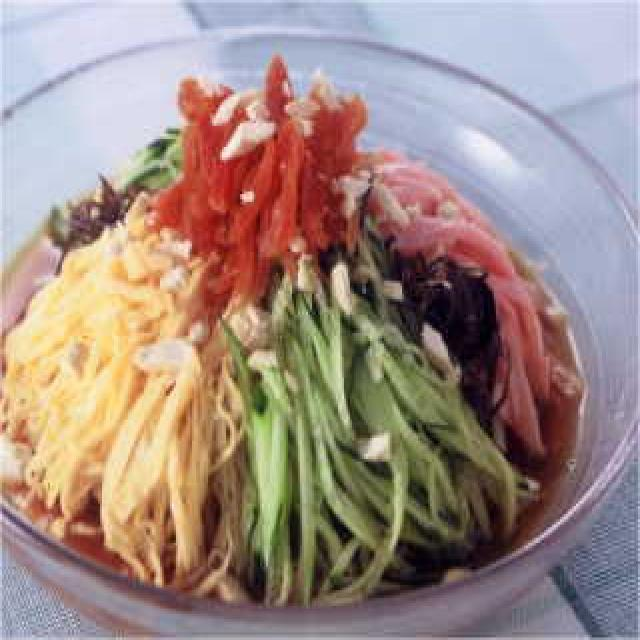面条主食: (0, 42, 628, 619)
